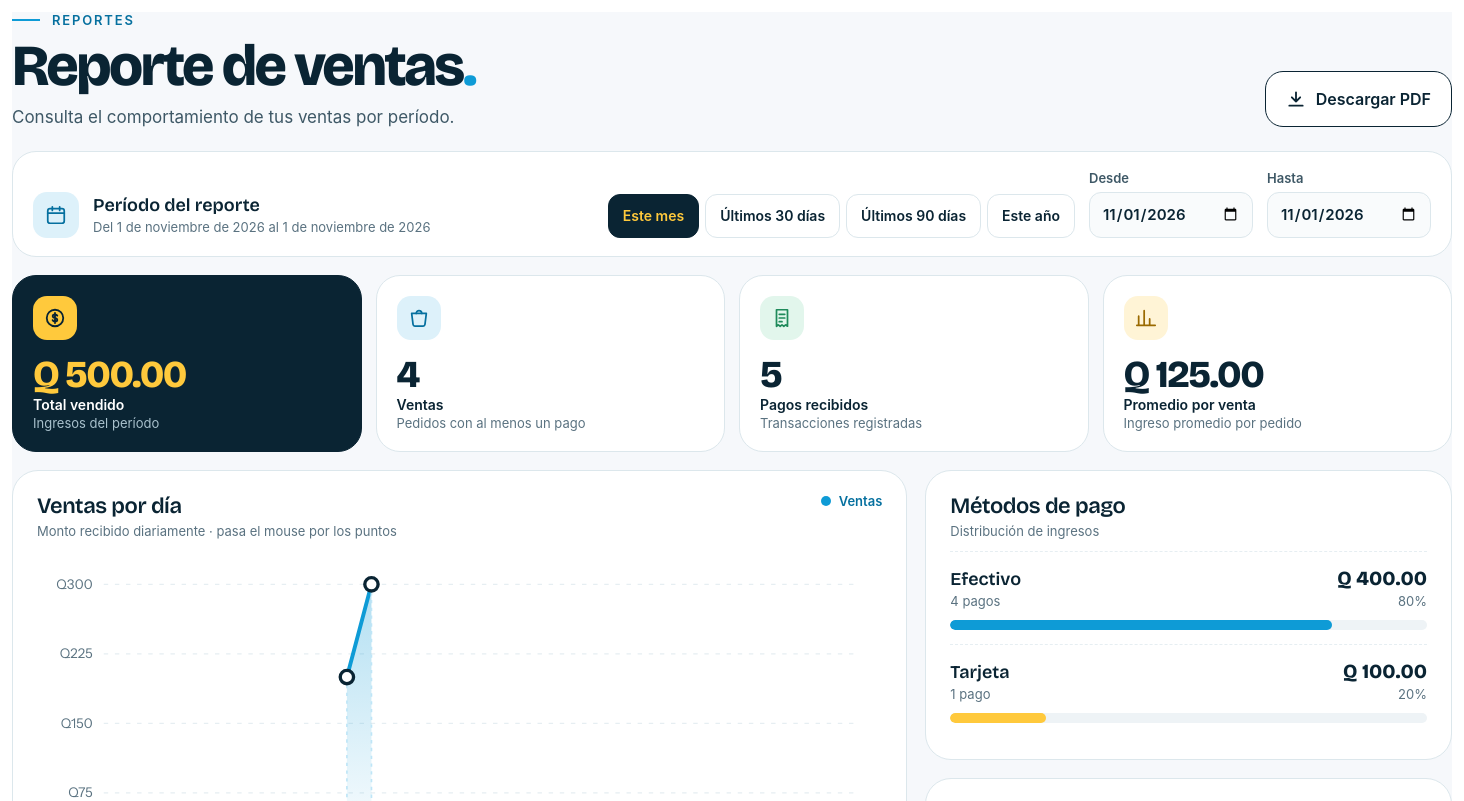
SalesReportPage › consulta otra vez al elegir un atajo o escribir fechas válidas
Expected: the text "Q 500.00" is shown, 33,352 -> 186,397
Click the button "Últimos 30 días" at (773, 216), box 705,194 -> 840,238
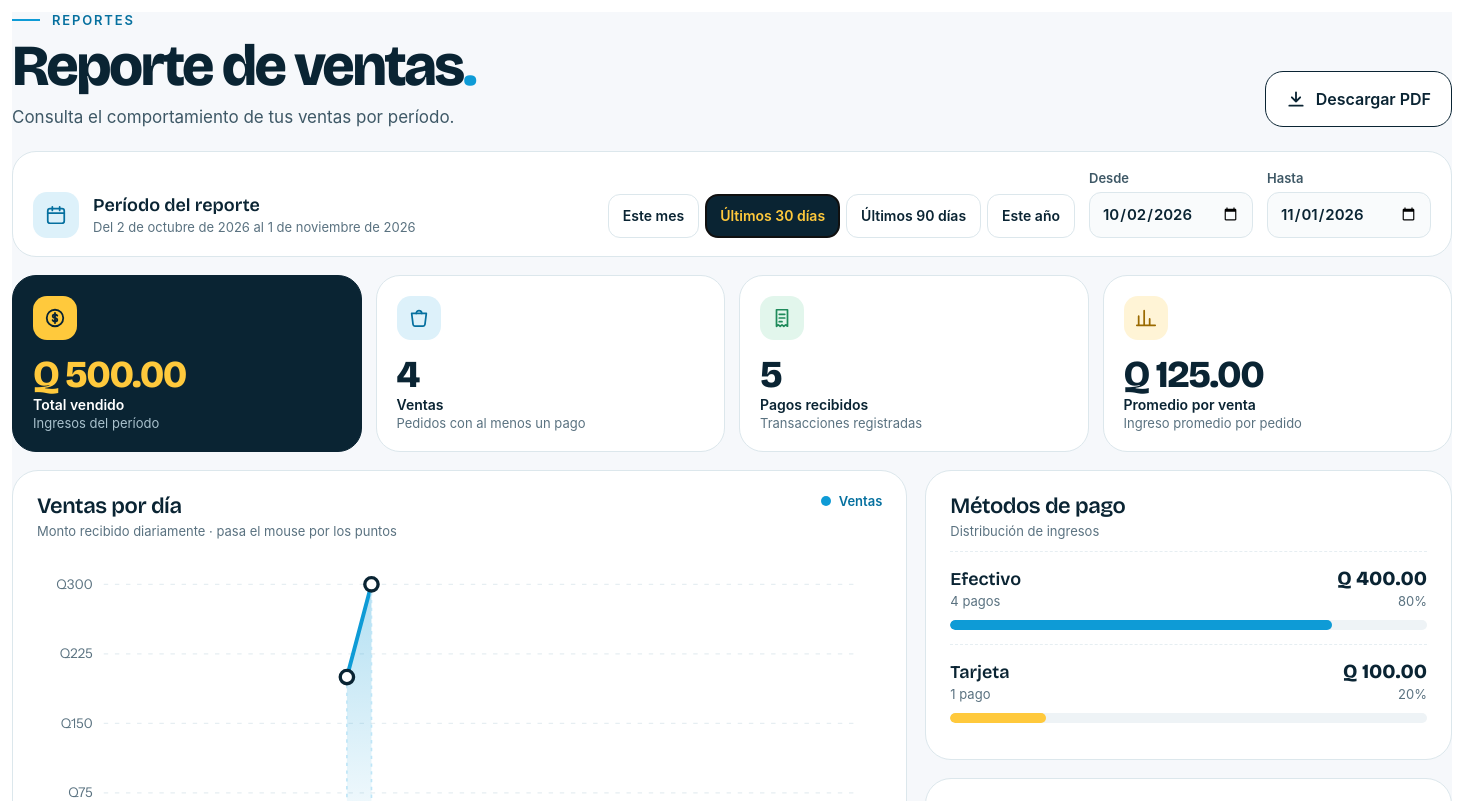
Type "2026-08-01" into the date field named "Fecha de inicio" at (1171, 215), box 1089,192 -> 1253,238
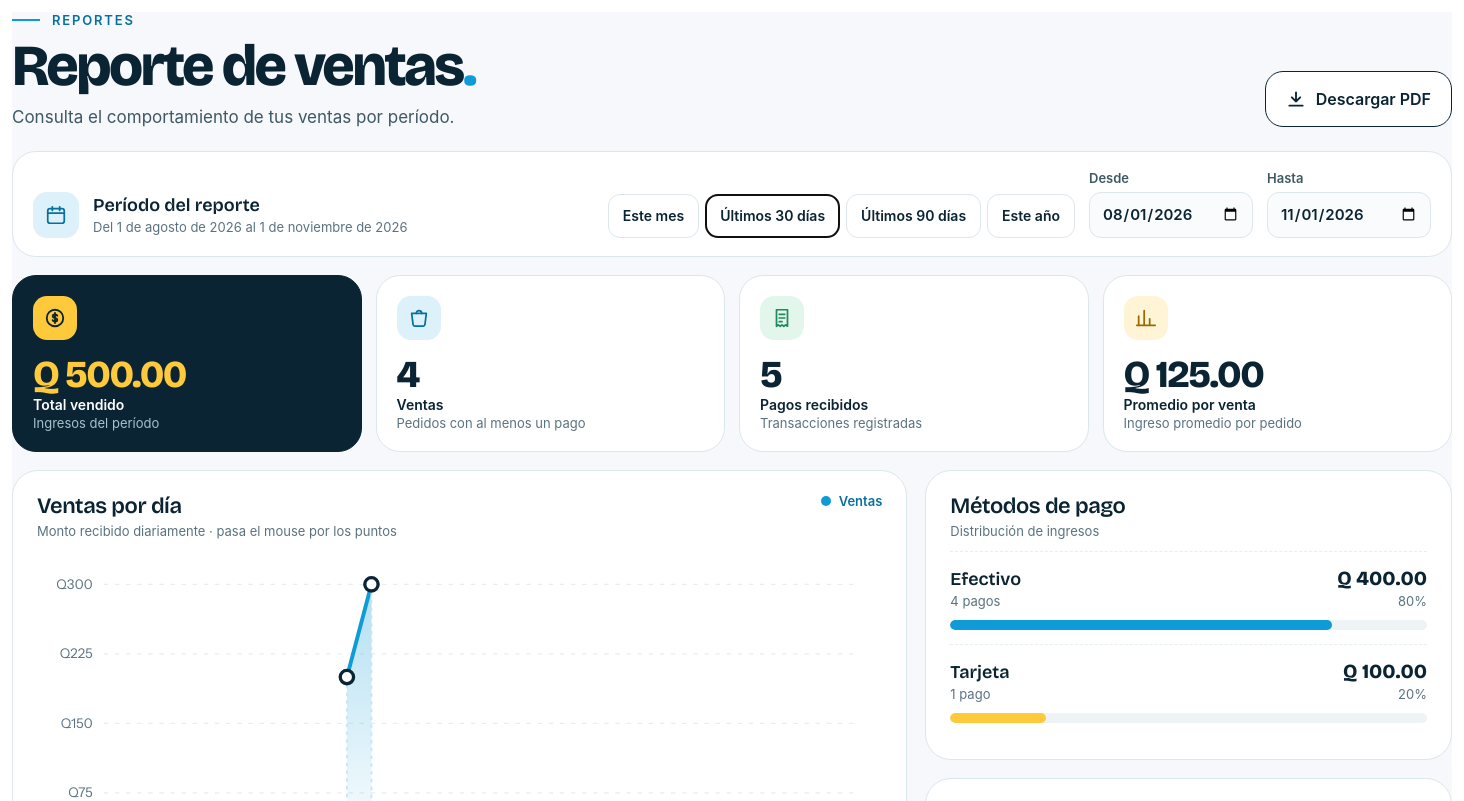
Type "2026-08-31" into the date field named "Fecha final" at (1349, 215), box 1267,192 -> 1431,238
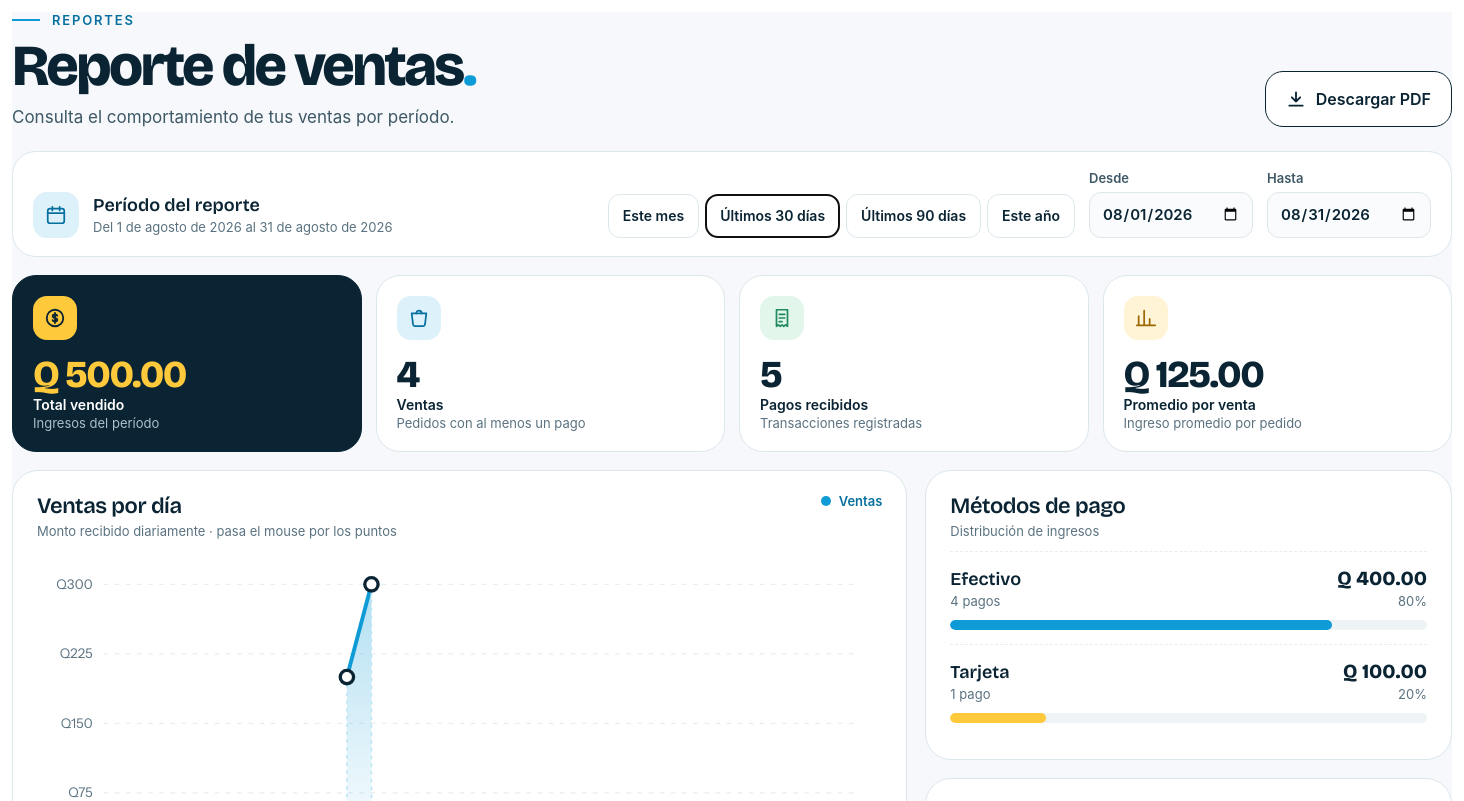
Expected: the text "Del 1 de agosto de 2026 al 31 de agosto de 2026" is shown, 93,219 -> 392,235
